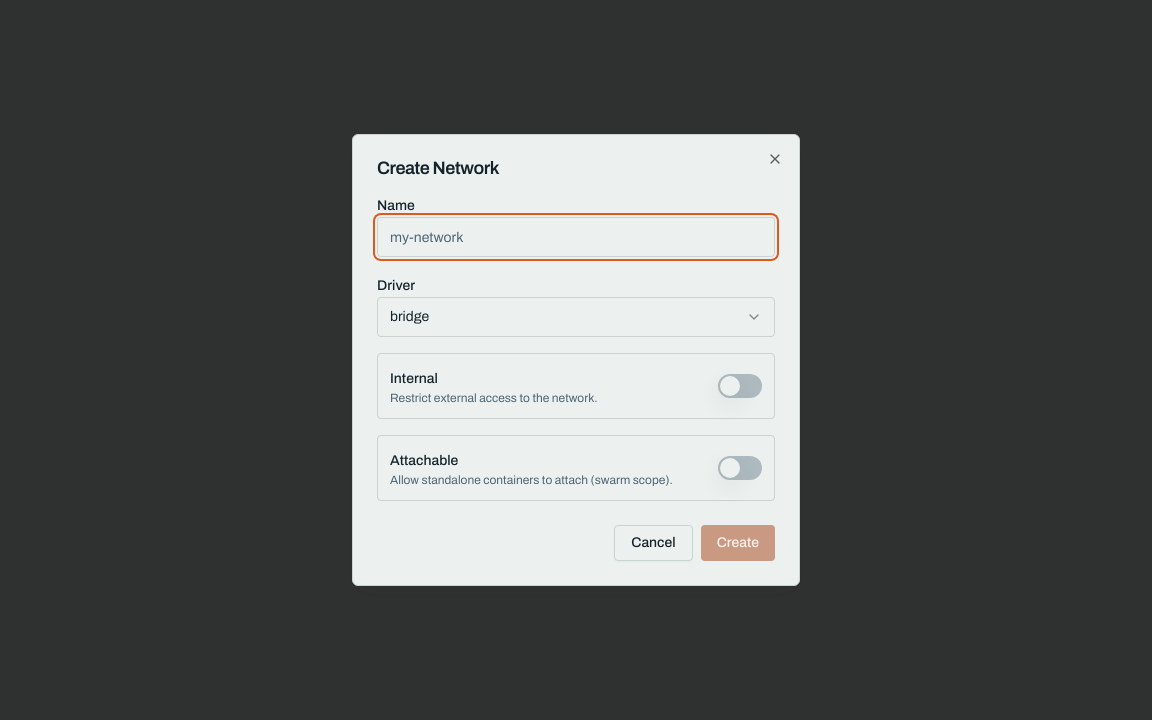
Scenario: CreateNetworkDialog — name validation › rejects -leading-dash
The width and height of the screenshot is (1152, 720).
Step 1. Type "-leading-dash" into the field labelled "Name" → (576, 237), box [377,217,775,257]
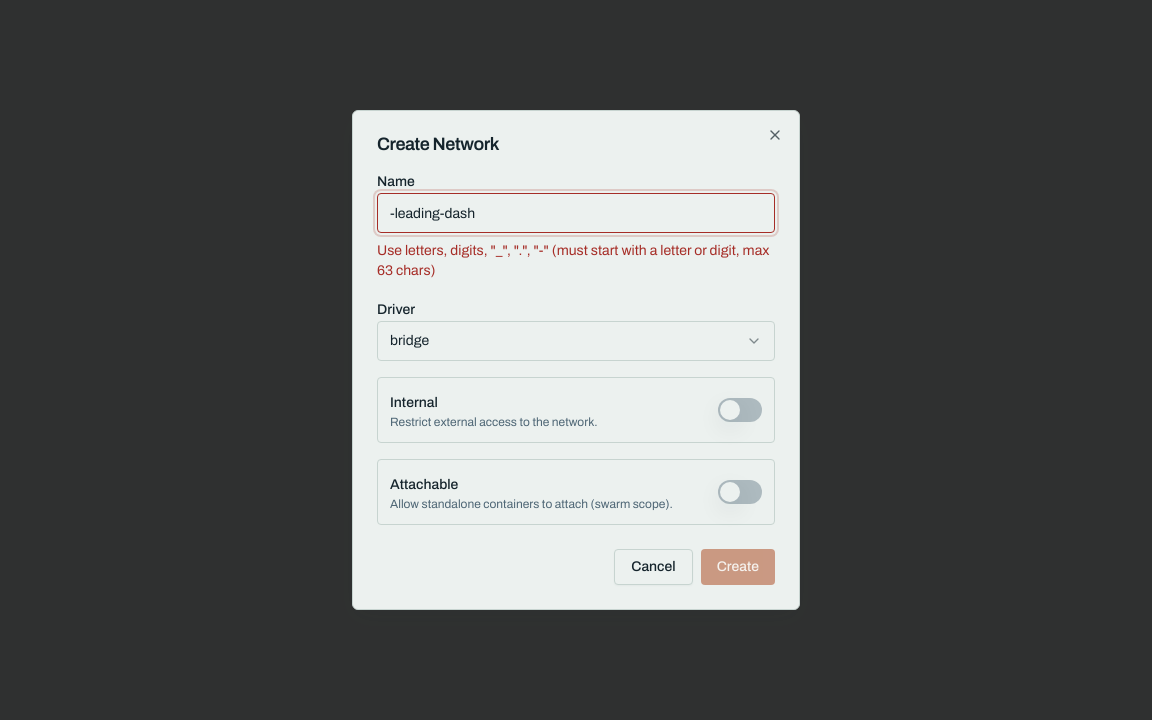
Expected: the button "Create" is disabled, [701,549,775,585]
Expected: the text "Use letters, digits, \"_\", \".\", \"-\" (must start with a letter or digit, max 63 chars)" is shown, [377,243,770,278]
